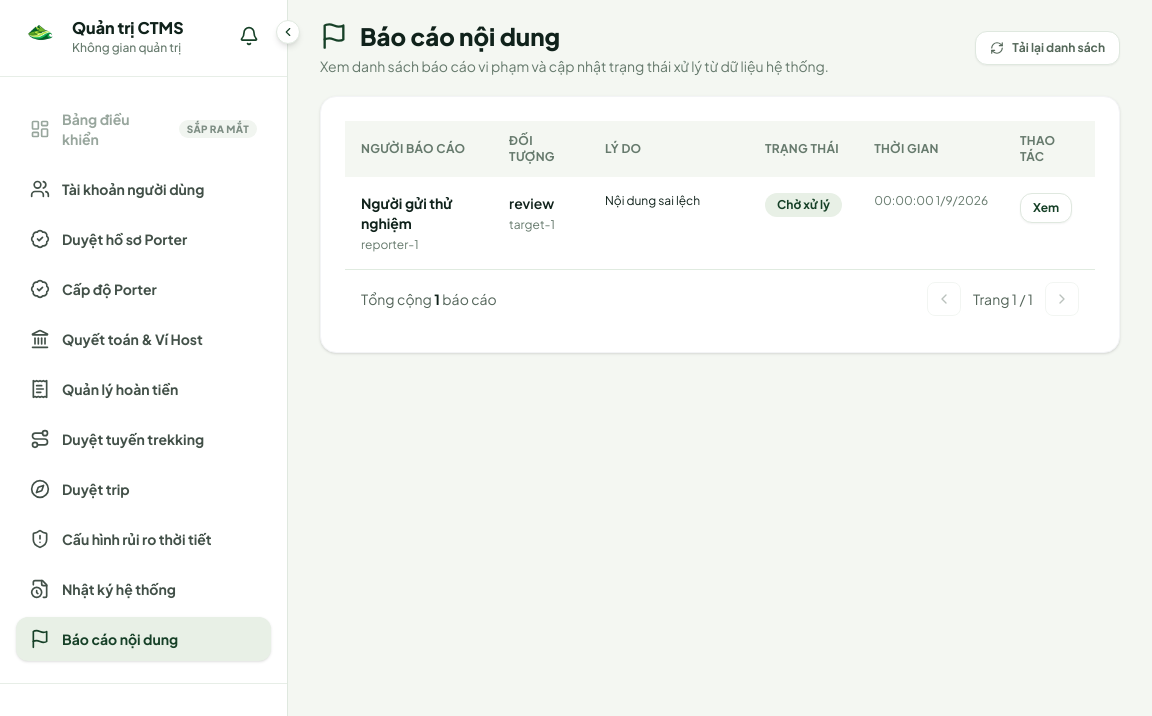
Test: Content Reports Admin UI › sends authoritative expectedStatus for pending -> actioned and refreshes both reads
The image size is (1152, 716).
Click the button "Xem".
click(1046, 208)  # box [1020,193,1072,223]
(page scrolled)
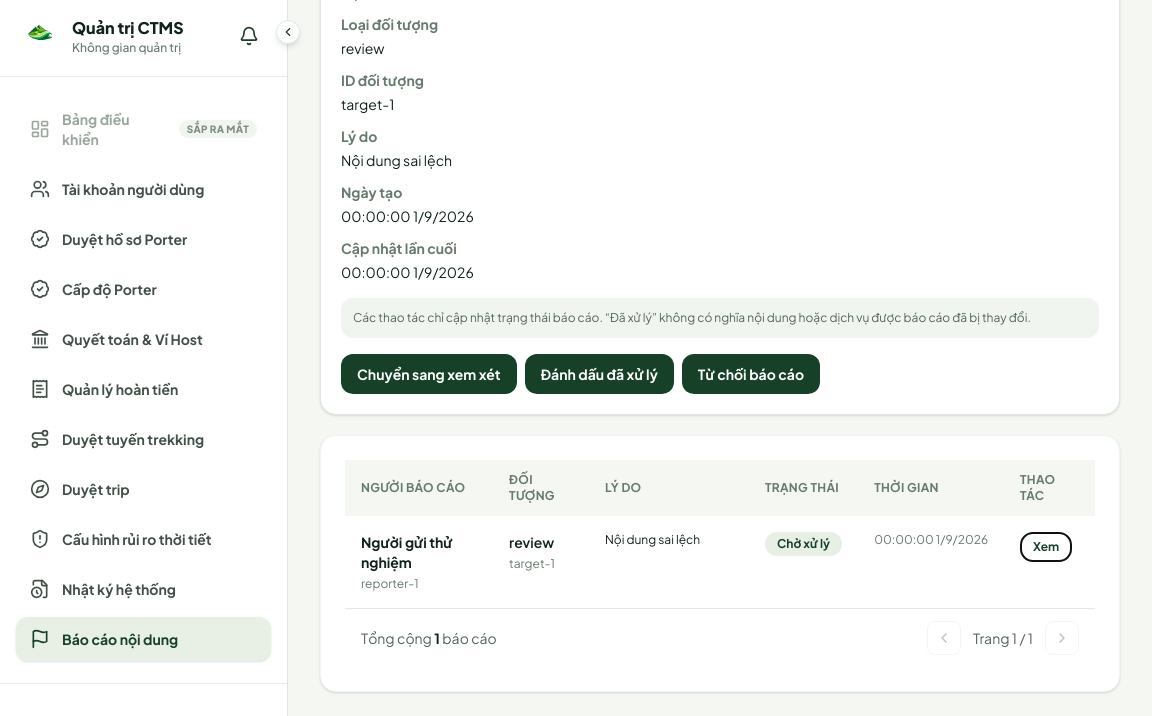
Expected: the text "Nội dung sai lệch" below "ID đối tượng" is shown, [341,151,452,169]
Click the button "Đánh dấu đã xử lý".
click(599, 374)  # box [525,354,674,394]
(page scrolled)
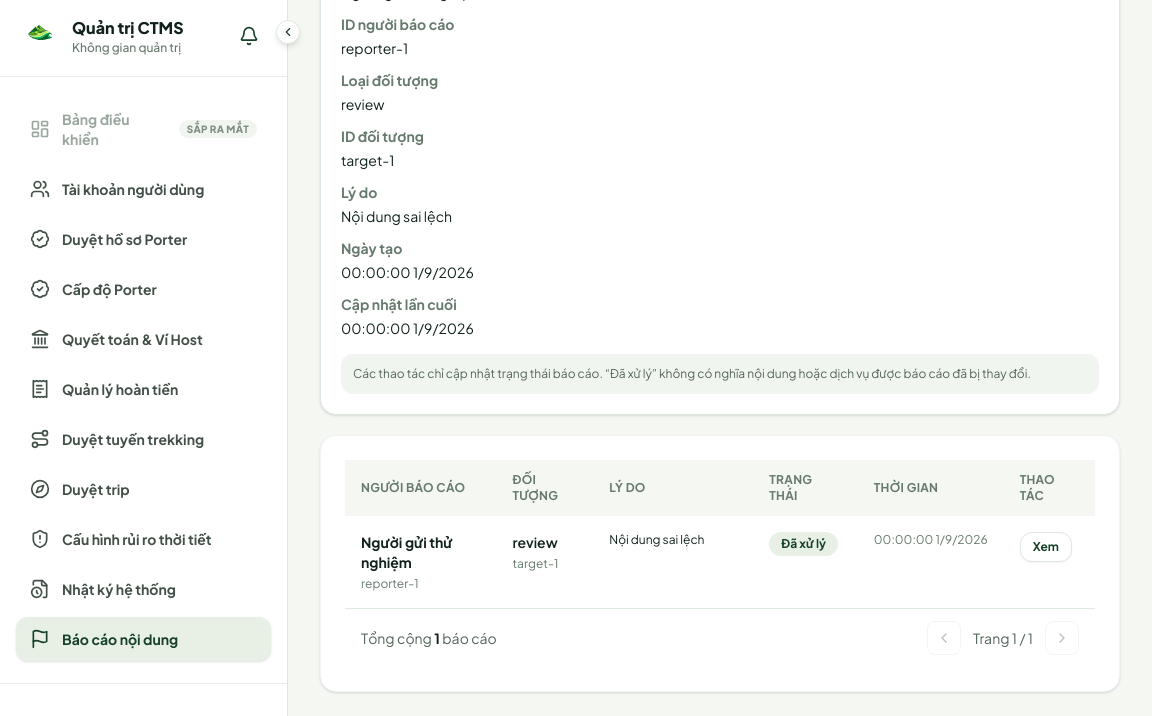
Expected: the button "Đánh dấu đã xử lý" is gone
